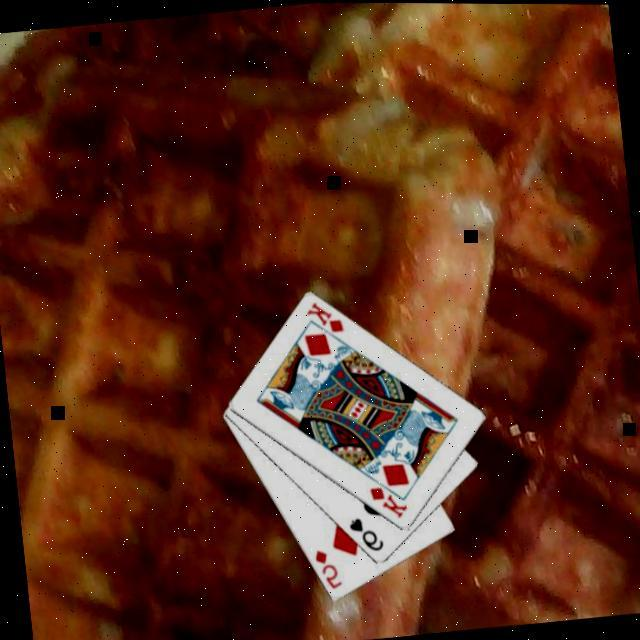5D: (310, 542, 346, 591)
6S: (345, 510, 388, 554)
KD: (367, 478, 413, 520), (302, 293, 348, 335)
